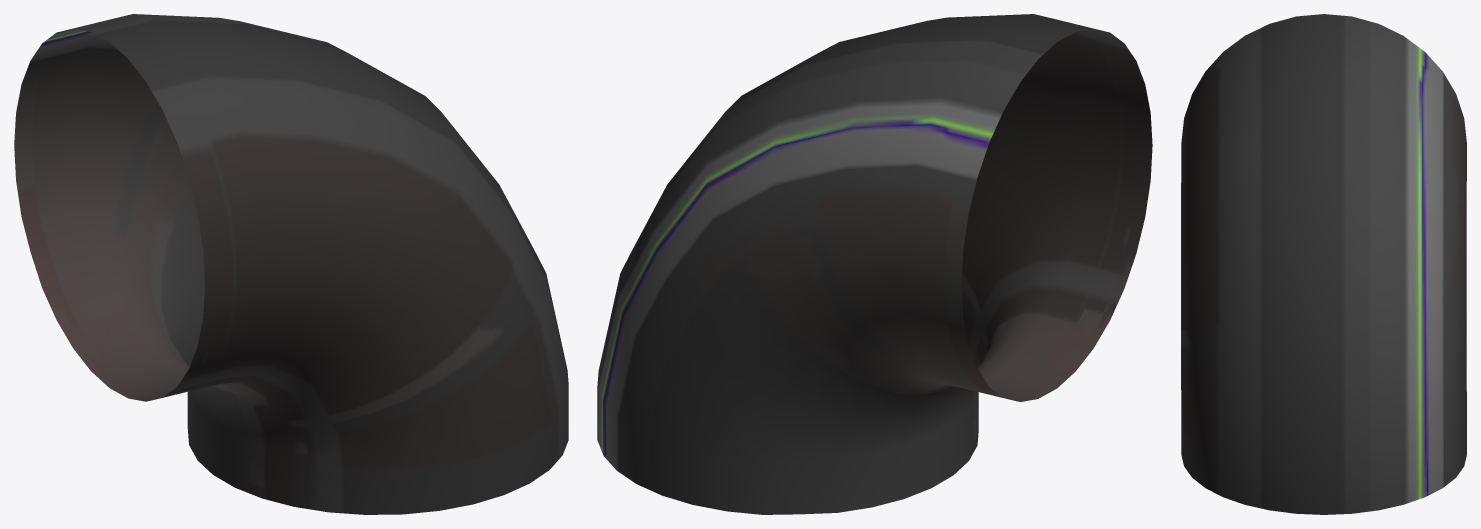
File: SM_Pipe_Angle_R.fbx
3 views of the same model, side by side, from view 1: azimuth 30°, elevation 25°; view 2: azimuth 150°, elevation 25°; view 3: azimuth 270°, elevation 25° (orthographic). The views are drawn at different scales.
Visible parts, largest first — view 1: SM_Pipe_Angle_R; view 2: SM_Pipe_Angle_R; view 3: SM_Pipe_Angle_R.
Part boxes in pixels (x1,y1,x2,y2): SM_Pipe_Angle_R: (14, 14, 568, 514); SM_Pipe_Angle_R: (597, 14, 1152, 514); SM_Pipe_Angle_R: (1181, 14, 1466, 514).
Bounding box in the file's own units: 3.97 × 4.01 × 3.03.
